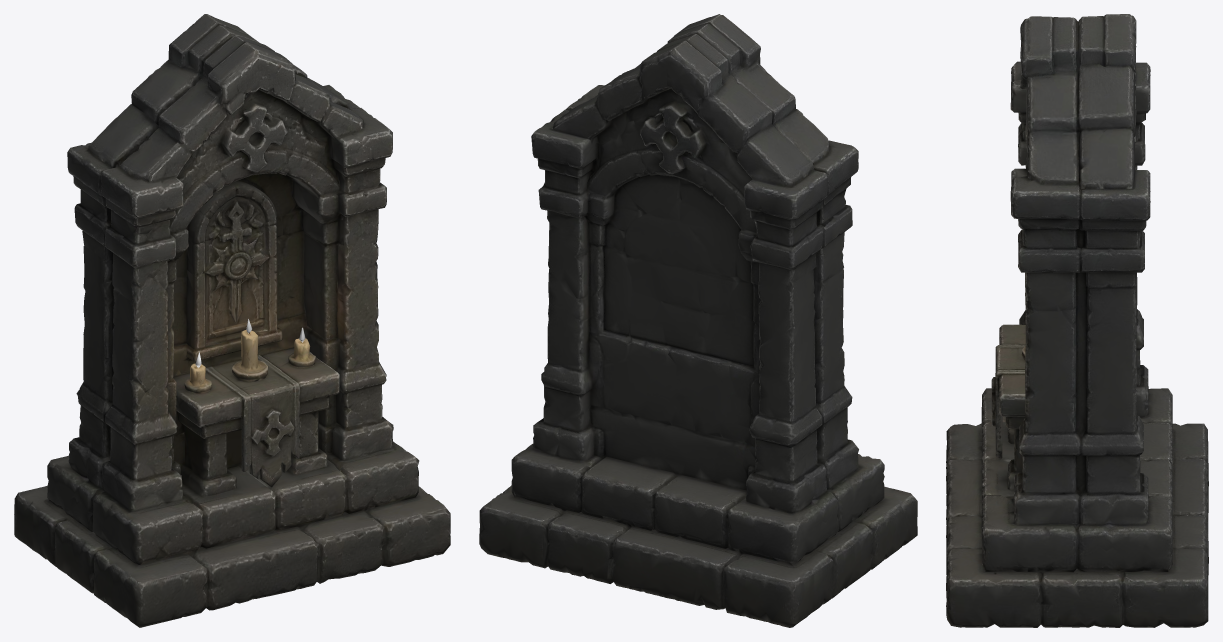
Rendered from Shrine.fbx.
3 views of the same model, side by side, from view 1: azimuth 30°, elevation 25°; view 2: azimuth 150°, elevation 25°; view 3: azimuth 270°, elevation 25° (orthographic). The views are drawn at different scales.
Parts seen in each view (by area): view 1: Shrine; view 2: Shrine; view 3: Shrine.
Boxes of the visible parts, x1=… form: Shrine: x1=14, y1=14, x2=450, y2=627; Shrine: x1=479, y1=14, x2=917, y2=627; Shrine: x1=946, y1=14, x2=1208, y2=627.
Size of the model in its own units: 182 by 283 by 126.
Materials: 2 (1 with a texture image).
